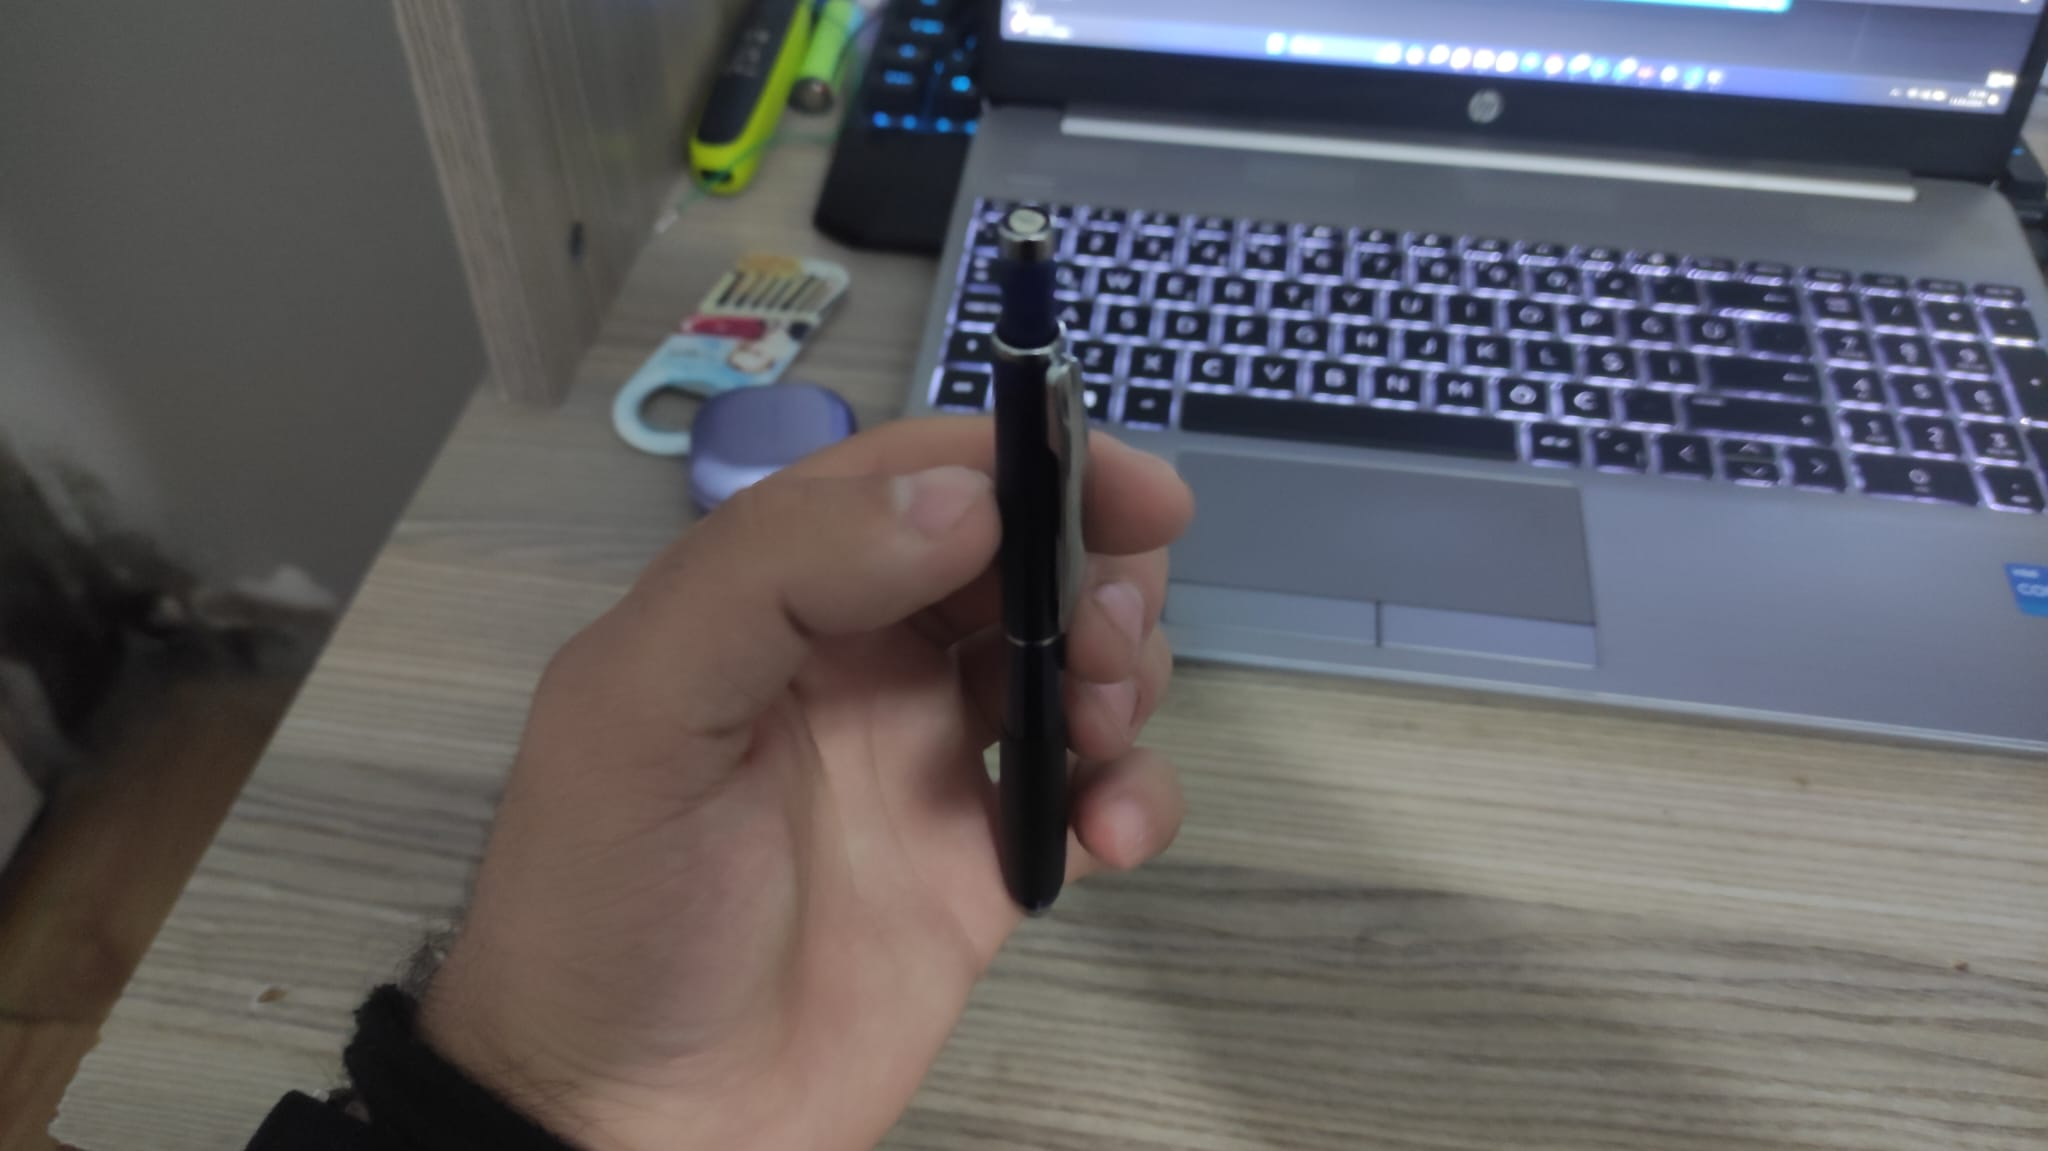kalem: (985, 201, 1089, 916)
